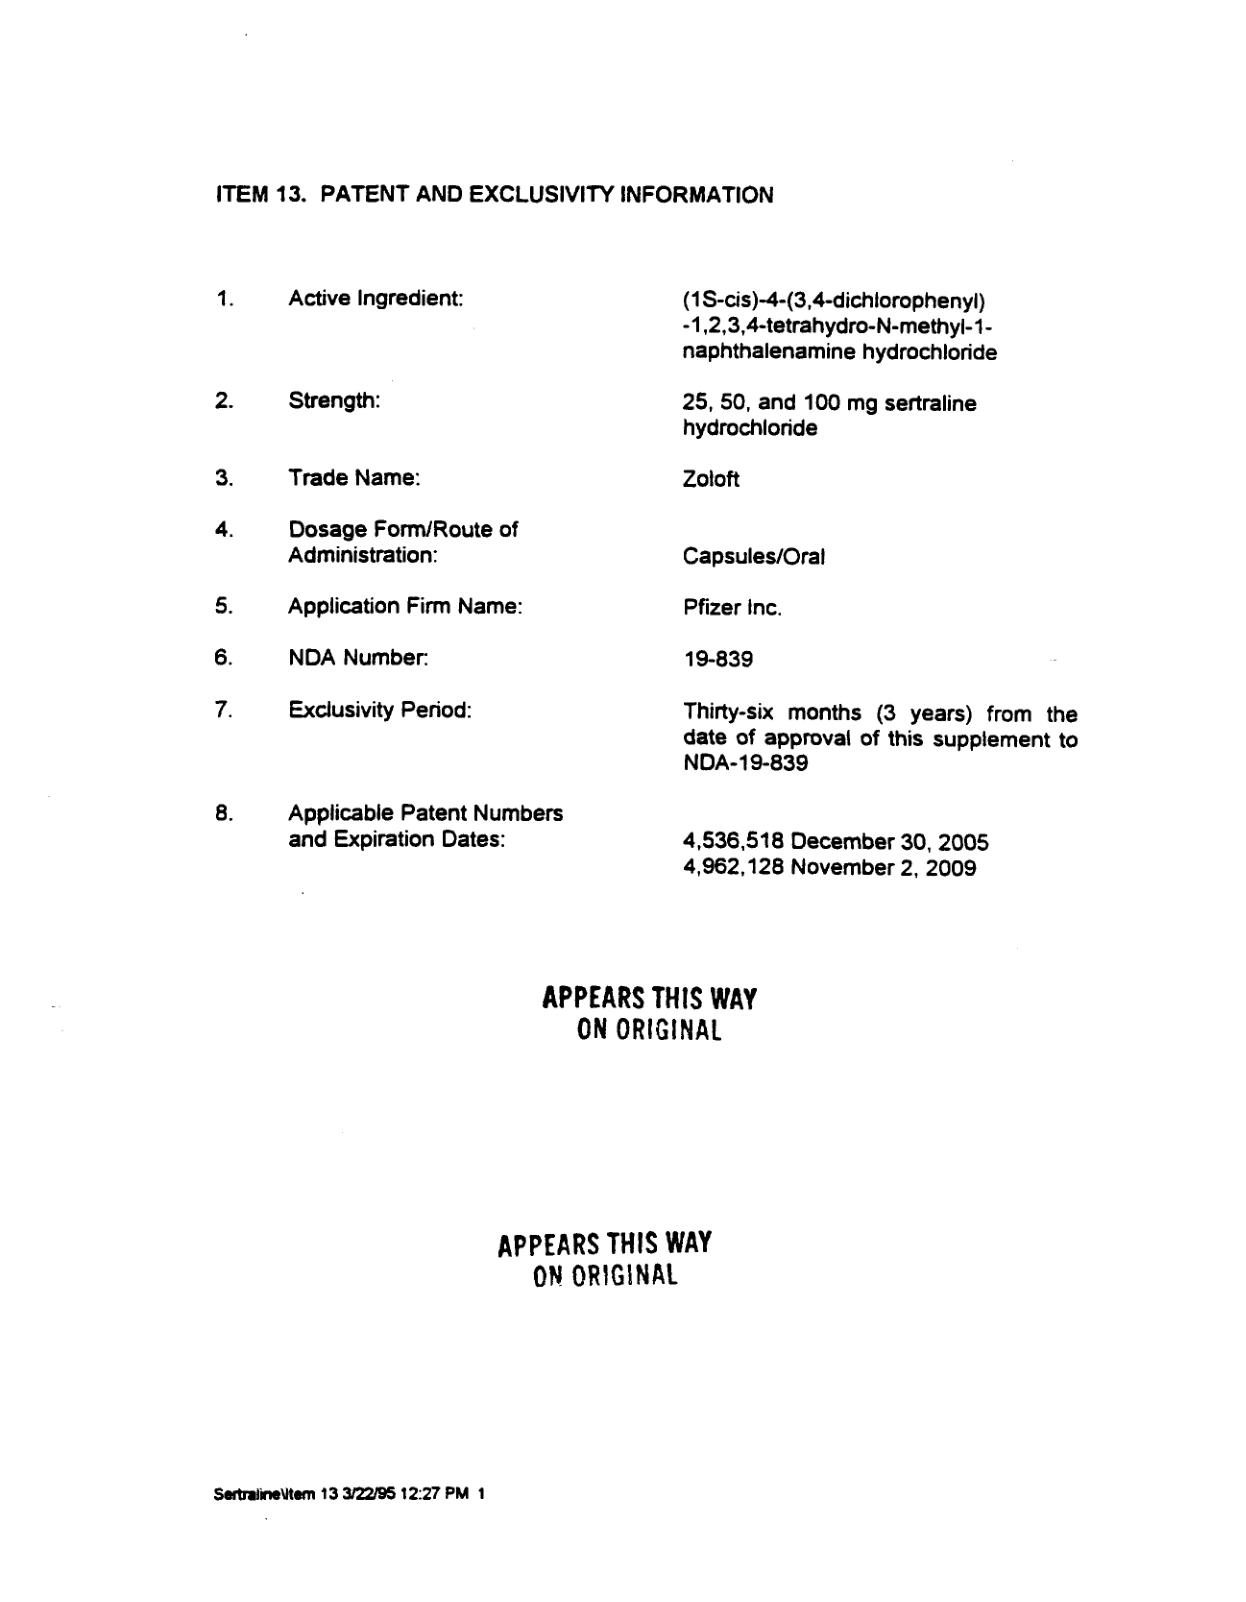nolines: (202, 280, 1083, 886)
